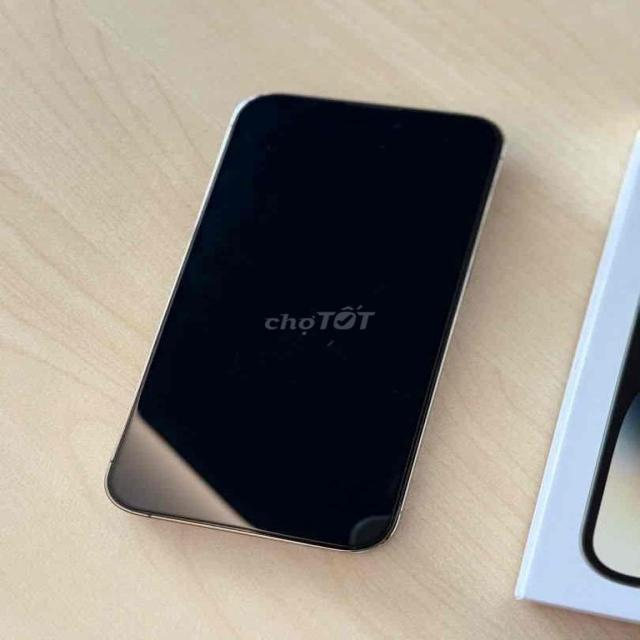gen_14: (99, 88, 512, 556)
